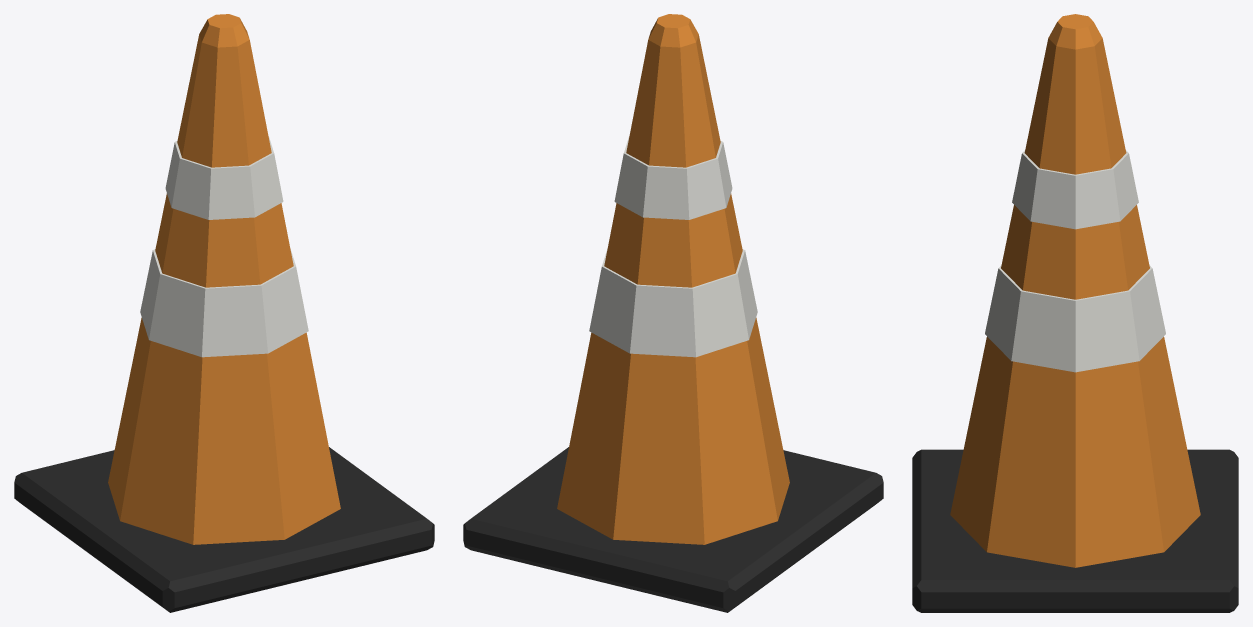
3 renders of one model, left to right at view 1: azimuth 30°, elevation 25°; view 2: azimuth 150°, elevation 25°; view 3: azimuth 270°, elevation 25°, orthographic. The views are drawn at different scales.
Visible parts, largest first — view 1: cone, base, band_low, band_high; view 2: cone, base, band_low, band_high; view 3: cone, base, band_low, band_high.
Boxes of the visible parts, box(x1,y1,x2,y2) form: cone: box(108, 14, 340, 544); base: box(14, 447, 434, 612); band_low: box(140, 248, 308, 357); band_high: box(165, 137, 283, 219); cone: box(557, 14, 789, 544); base: box(463, 447, 883, 612); band_low: box(589, 248, 757, 357); band_high: box(614, 137, 732, 219); cone: box(950, 14, 1200, 567); base: box(912, 449, 1238, 612); band_low: box(985, 265, 1165, 372); band_high: box(1012, 150, 1138, 229).
Bounding box in the file's own units: 0.36 × 0.64 × 0.36.
3 materials, 3 textured.
